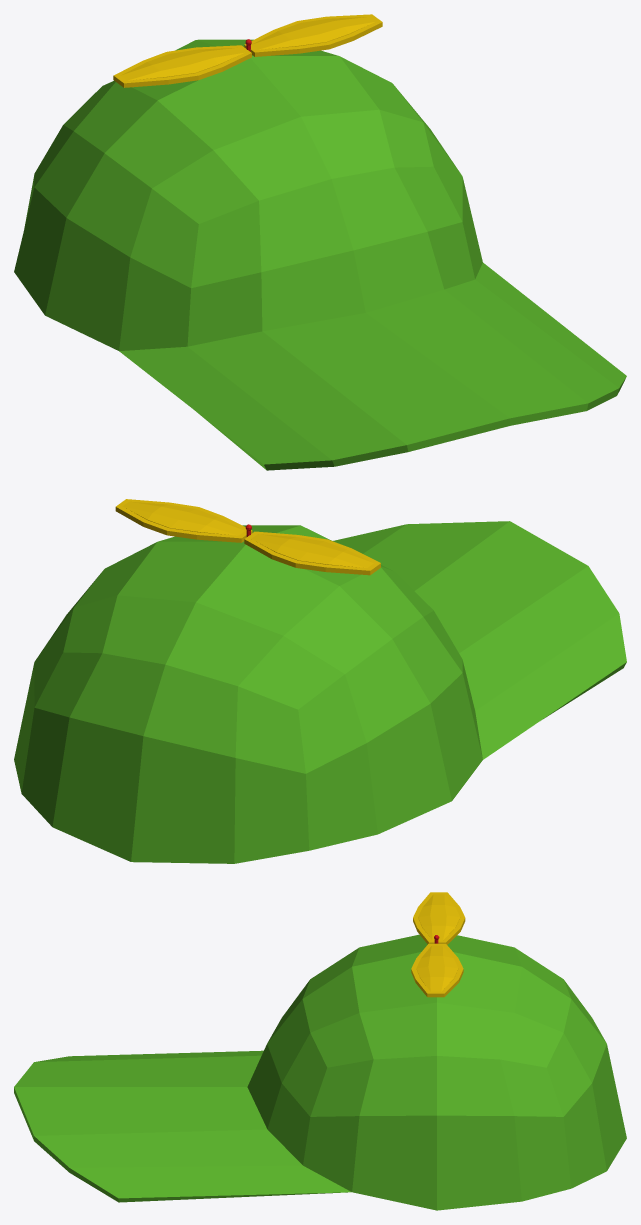
Rendered from tete_casquette 2.FBX.
3 renders of one model, top to bottom at view 1: azimuth 30°, elevation 25°; view 2: azimuth 150°, elevation 25°; view 3: azimuth 270°, elevation 25°, orthographic. The views are drawn at different scales.
Parts seen in each view (by area): view 1: Box037; view 2: Box037; view 3: Box037.
Part boxes in pixels (x1,y1,x2,y2): Box037: (14, 14, 626, 470); Box037: (14, 499, 626, 863); Box037: (14, 892, 626, 1210).
Bounding box in the file's own units: 51.94 × 30.82 × 83.78.
